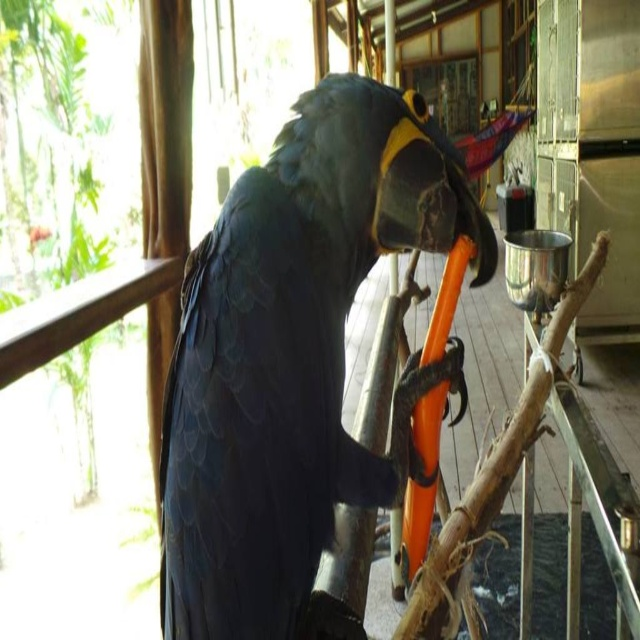Parrot: (156, 72, 499, 639)
